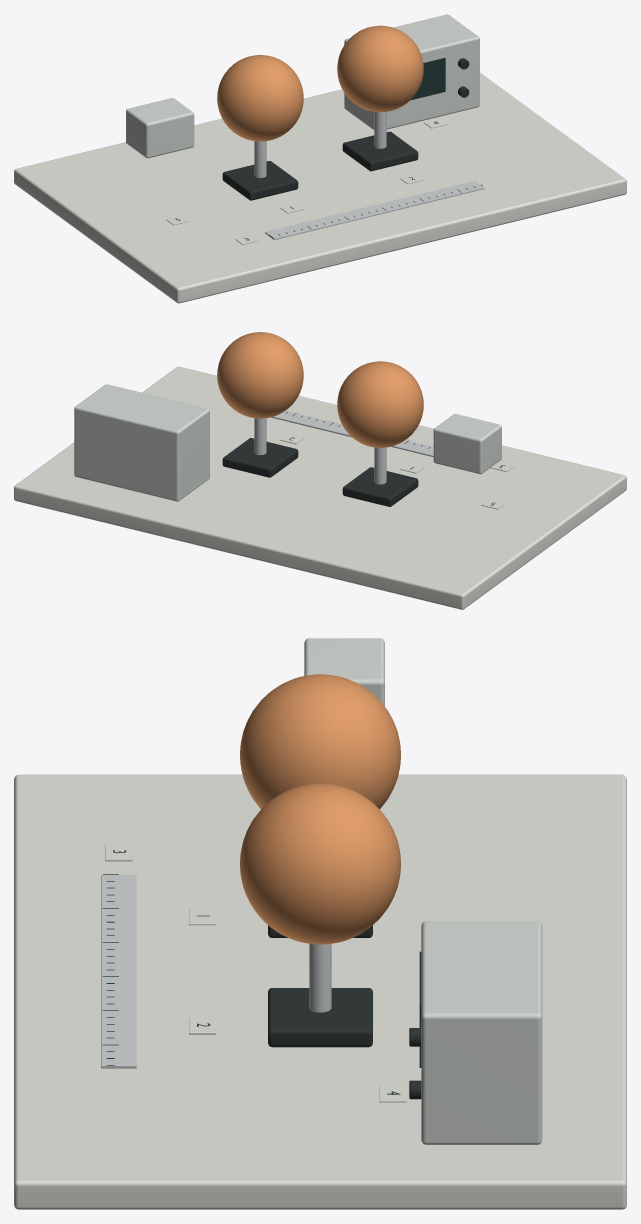
File: copper-spheres.glb
The picture shows the model from 3 angles, top to bottom: view 1: azimuth 30°, elevation 25°; view 2: azimuth 150°, elevation 25°; view 3: azimuth 270°, elevation 25°; orthographic projection. The views are drawn at different scales.
Visible parts, largest first — view 1: assumed 600 by 380 mm apparatus base, readout, sphere-a, sphere-b, unrated sensor housing, illustrative ruler, sphere-b foot, sphere-a foot, readout blank display, sphere-a post, sphere-b post; view 2: assumed 600 by 380 mm apparatus base, readout, sphere-b, sphere-a, unrated sensor housing, sphere-a foot, sphere-b foot, illustrative ruler, sphere-b post, sphere-a post; view 3: assumed 600 by 380 mm apparatus base, readout, sphere-b, sphere-a, illustrative ruler, sphere-b foot, unrated sensor housing, sphere-b post.
Part boxes in pixels (x1,y1,x2,y2): assumed 600 by 380 mm apparatus base: [14, 72, 626, 303]; readout: [344, 14, 479, 129]; sphere-a: [217, 55, 303, 141]; sphere-b: [337, 25, 423, 112]; unrated sensor housing: [126, 98, 194, 158]; illustrative ruler: [265, 180, 484, 240]; sphere-b foot: [342, 131, 418, 171]; sphere-a foot: [222, 161, 298, 200]; readout blank display: [410, 58, 445, 100]; sphere-a post: [254, 141, 266, 178]; sphere-b post: [374, 112, 386, 148]; assumed 600 by 380 mm apparatus base: [14, 366, 626, 609]; readout: [74, 384, 209, 501]; sphere-b: [217, 332, 303, 418]; sphere-a: [337, 361, 423, 447]; unrated sensor housing: [433, 414, 501, 474]; sphere-a foot: [342, 467, 418, 506]; sphere-b foot: [222, 438, 298, 477]; illustrative ruler: [271, 410, 433, 457]; sphere-b post: [254, 418, 266, 455]; sphere-a post: [374, 447, 386, 484]; assumed 600 by 380 mm apparatus base: [14, 774, 626, 1209]; readout: [421, 921, 542, 1144]; sphere-b: [240, 783, 400, 944]; sphere-a: [240, 674, 400, 808]; illustrative ruler: [101, 875, 136, 1068]; sphere-b foot: [268, 988, 372, 1047]; unrated sensor housing: [304, 638, 384, 706]; sphere-b post: [309, 943, 331, 1012].
Bounding box in the file's own units: 0.6 × 0.185 × 0.38.
